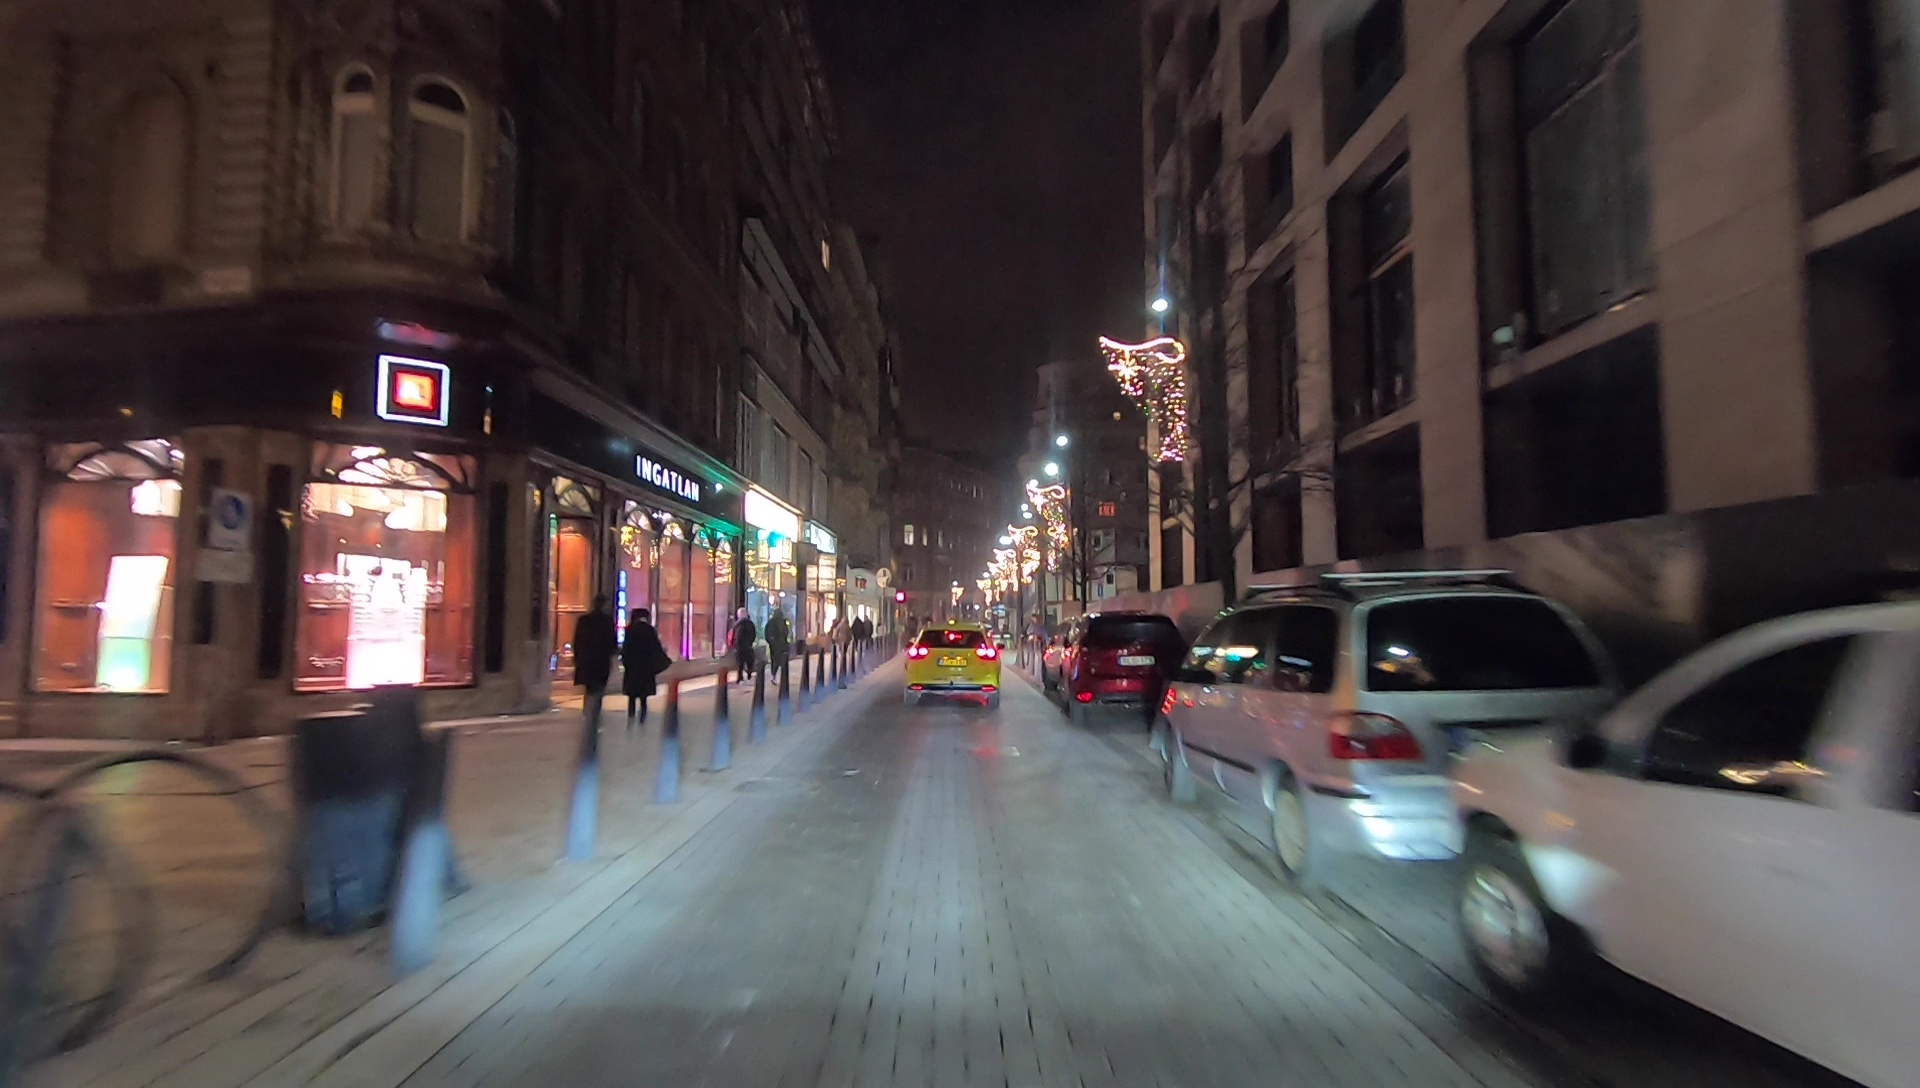person: (575, 594, 616, 739), (622, 605, 667, 737), (728, 606, 756, 684), (764, 606, 789, 682), (833, 616, 850, 661), (863, 615, 874, 657), (853, 616, 862, 666)
